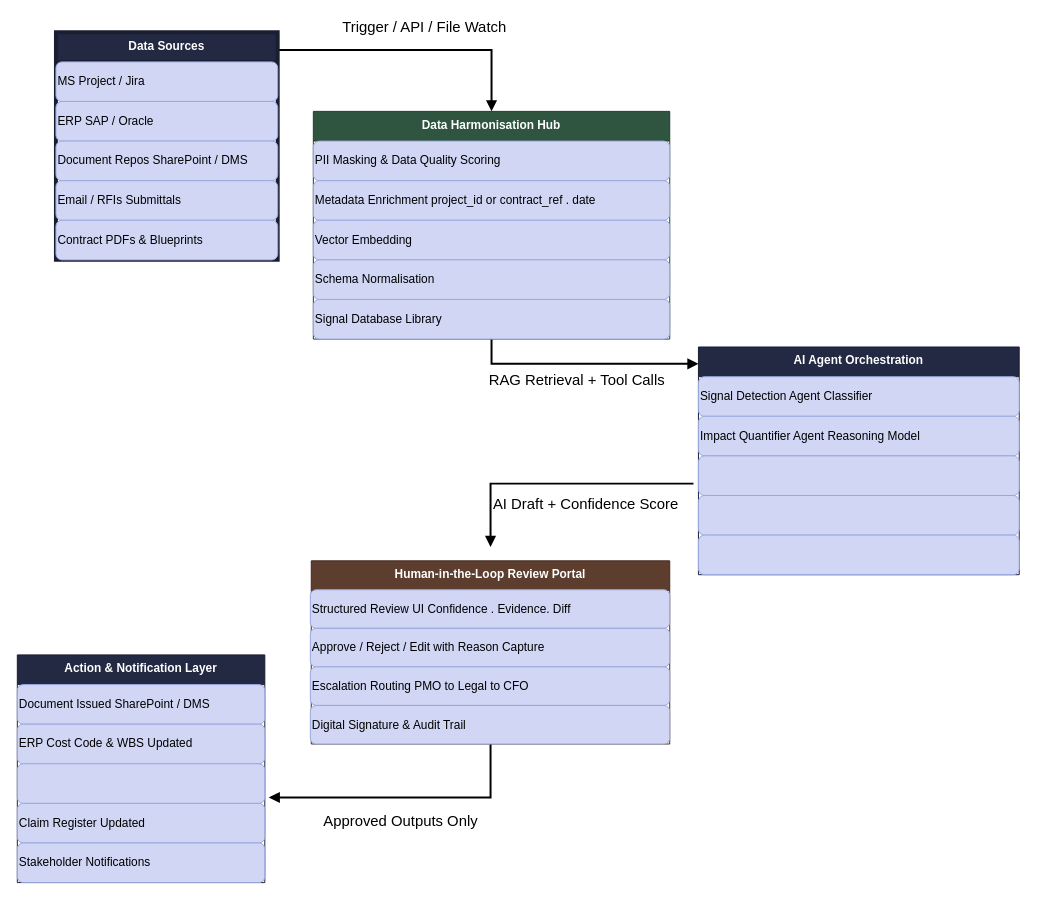
Image size: 1037x900. Some labels were removed from this diagram. Each missing label, with the centre of its shape:
"Claim Tracker Agent Rule Engine + LLM" belongs at point (858, 515).
"Notice Drafting Agent" belongs at point (858, 475).
"Orchestrator & Router Models" belongs at point (858, 554).
"Schedule Adjusted" belongs at point (140, 783).
